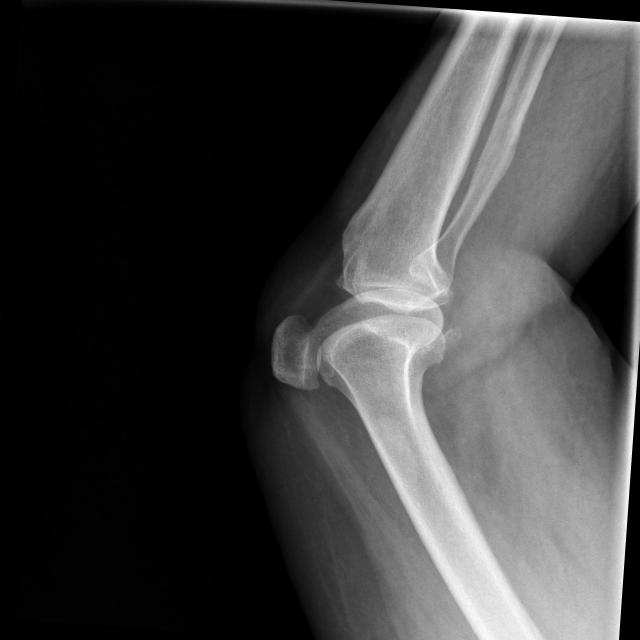Knee: (269, 242, 460, 407)
